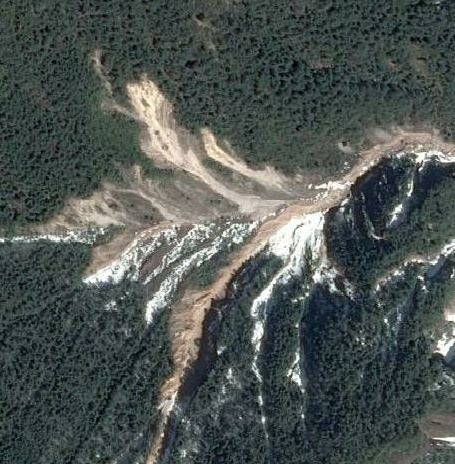slope: (49, 75, 454, 453)
